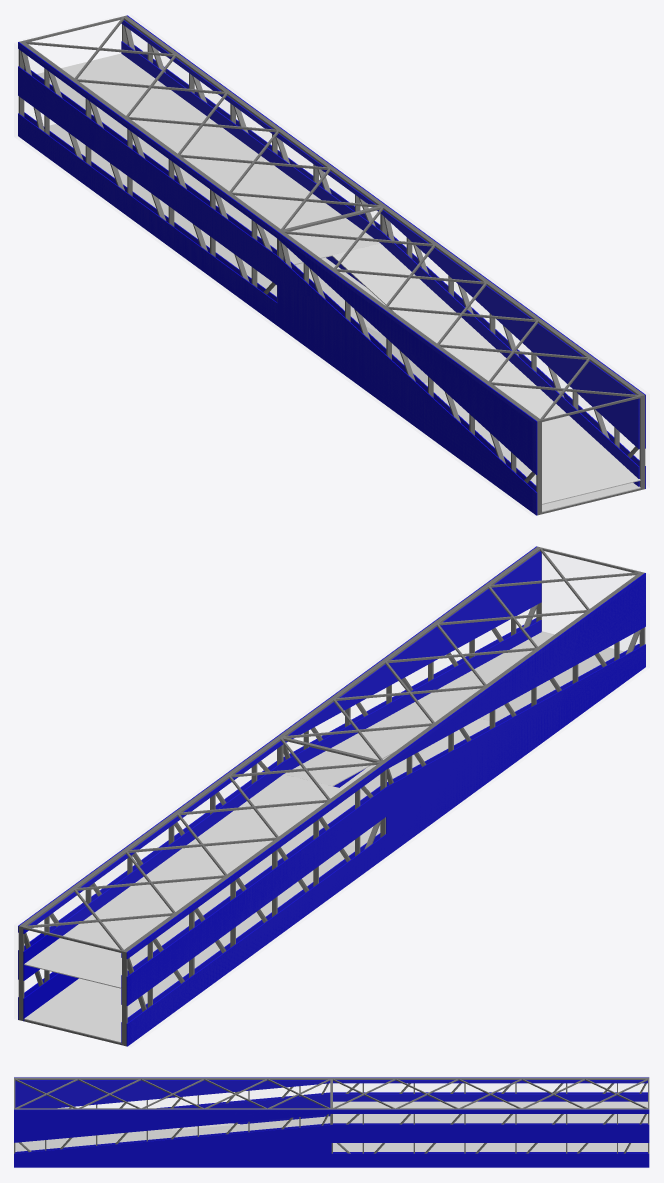
Rendered from Endless Bridge.glb.
The picture shows the model from 3 angles, top to bottom: view 1: azimuth 30°, elevation 25°; view 2: azimuth 150°, elevation 25°; view 3: azimuth 270°, elevation 25°; orthographic projection. The views are drawn at different scales.
Visible parts, largest first — view 1: Floor Upper Near, Floor Middle Floor Cut, Outer Wall Lower Wall Panel, Outer Wall Upper Wall Panel, Outer Wall Lower Wall Panel.005, Inner Wall Upper Wall Panel.002, Outer Wall Lower Wall Panel.006, Structrue Wall.001, Structrue Ceiling, Structrue Ceiling.001, Structrue Wall 2, Structrue Wall (+12 smaller); view 2: Floor Upper Near, Outer Wall Lower Wall Panel, Outer Wall Upper Wall Panel, Outer Wall Lower Wall Panel.005, Floor Middle Floor Cut, Inner Wall Upper Wall Panel.002, Outer Wall Lower Wall Panel.006, Floor Lower Near, Structrue Ceiling.001, Structrue Wall.001, Structrue Ceiling, Structrue Wall 2.001 (+13 smaller); view 3: Outer Wall Lower Wall Panel.004, Outer Wall Upper Wall Panel.003, Outer Wall Lower Wall Panel.007, Floor Upper Near, Inner Wall Upper Wall Panel.001, Outer Wall Lower Wall Panel.008, Floor Lower Near, Floor Middle Floor Cut, Inner Wall Lower Wall Panel.009, Structrue Ceiling, Structrue Ceiling.001, Outer Wall Upper Wall Panel.006 (+14 smaller).
Part boxes in pixels (bbox=[...]): Floor Upper Near: bbox=[37, 53, 379, 264]; Floor Middle Floor Cut: bbox=[332, 243, 640, 504]; Outer Wall Lower Wall Panel: bbox=[277, 256, 537, 515]; Outer Wall Upper Wall Panel: bbox=[277, 231, 537, 475]; Outer Wall Lower Wall Panel.005: bbox=[18, 66, 277, 284]; Inner Wall Upper Wall Panel.002: bbox=[380, 210, 639, 448]; Outer Wall Lower Wall Panel.006: bbox=[18, 113, 277, 325]; Structrue Wall.001: bbox=[18, 41, 282, 301]; Structrue Ceiling: bbox=[283, 206, 640, 421]; Structrue Ceiling.001: bbox=[23, 16, 381, 230]; Structrue Wall 2: bbox=[381, 205, 645, 489]; Structrue Wall: bbox=[278, 230, 541, 515]; Floor Upper Near: bbox=[24, 774, 366, 988]; Outer Wall Lower Wall Panel: bbox=[386, 644, 645, 856]; Outer Wall Upper Wall Panel: bbox=[386, 573, 645, 768]; Outer Wall Lower Wall Panel.005: bbox=[126, 787, 386, 1006]; Floor Middle Floor Cut: bbox=[284, 631, 624, 786]; Inner Wall Upper Wall Panel.002: bbox=[285, 551, 541, 742]; Outer Wall Lower Wall Panel.006: bbox=[126, 834, 386, 1046]; Floor Lower Near: bbox=[24, 844, 354, 1043]; Structrue Ceiling.001: bbox=[23, 737, 381, 952]; Structrue Wall.001: bbox=[122, 761, 385, 1046]; Structrue Ceiling: bbox=[283, 547, 640, 761]; Structrue Wall 2.001: bbox=[18, 736, 282, 1020]; Outer Wall Lower Wall Panel.004: bbox=[14, 1125, 331, 1167]; Outer Wall Upper Wall Panel.003: bbox=[14, 1109, 331, 1142]; Outer Wall Lower Wall Panel.007: bbox=[331, 1124, 649, 1142]; Floor Upper Near: bbox=[333, 1101, 647, 1123]; Inner Wall Upper Wall Panel.001: bbox=[15, 1080, 330, 1108]; Outer Wall Lower Wall Panel.008: bbox=[331, 1153, 649, 1167]; Floor Lower Near: bbox=[333, 1143, 647, 1151]; Floor Middle Floor Cut: bbox=[15, 1116, 330, 1151]; Inner Wall Lower Wall Panel.009: bbox=[333, 1094, 647, 1101]; Structrue Ceiling: bbox=[14, 1079, 331, 1108]; Structrue Ceiling.001: bbox=[331, 1079, 649, 1108]; Outer Wall Upper Wall Panel.006: bbox=[331, 1109, 649, 1113].
Size of the model in its own units: 13.07 by 10.1 by 100.
